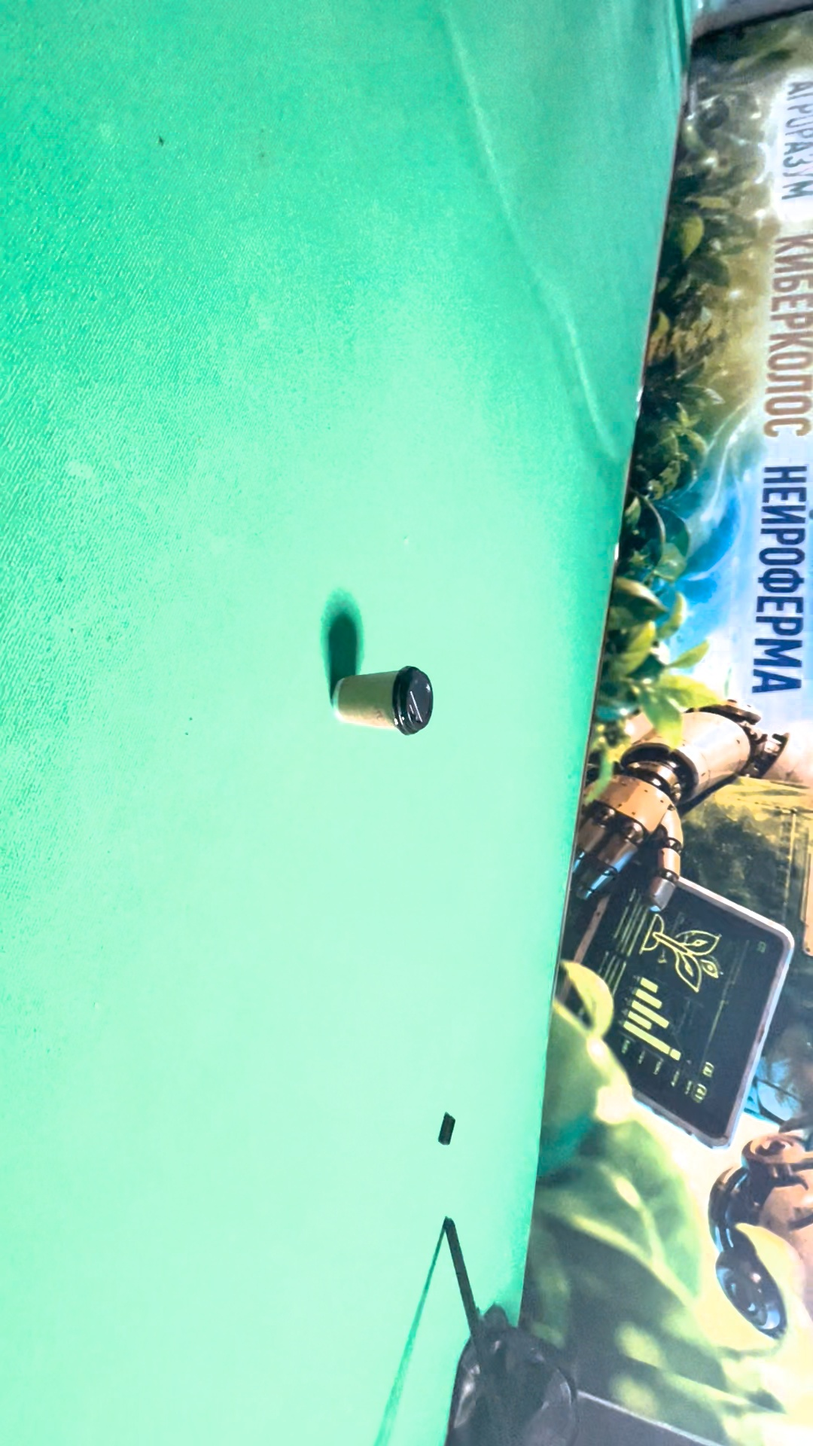cup: (441, 509, 527, 924)
